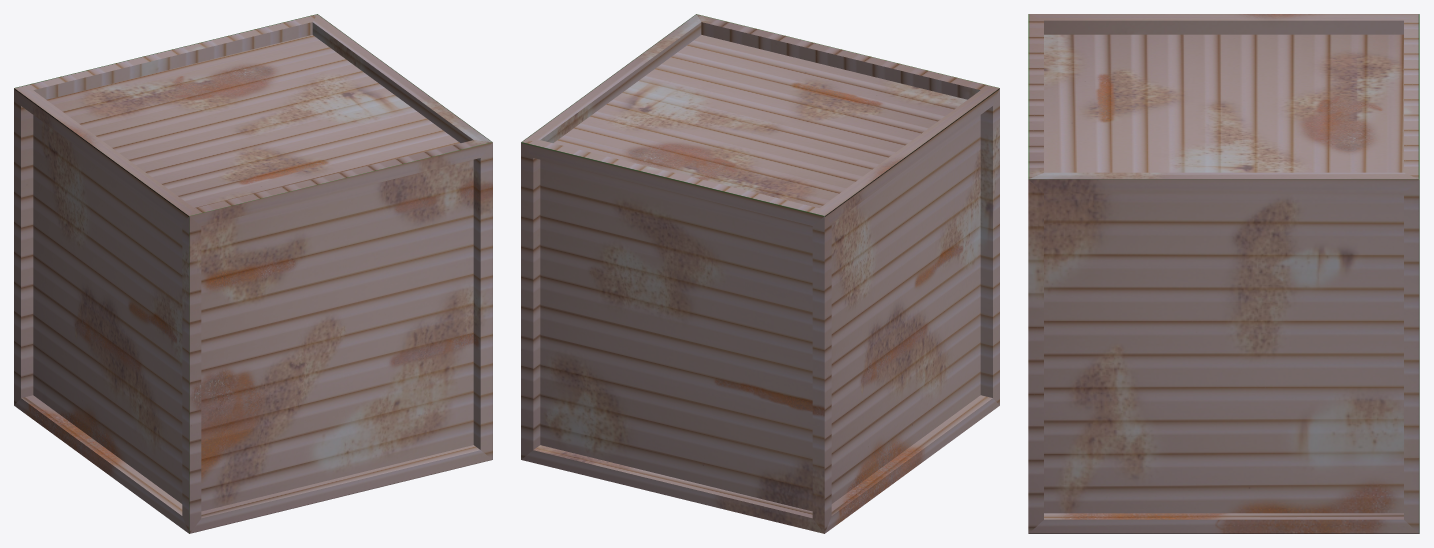
The model's file is Metal_Crate.FBX.
The picture shows the model from 3 angles, left to right: view 1: azimuth 30°, elevation 25°; view 2: azimuth 150°, elevation 25°; view 3: azimuth 270°, elevation 25°; orthographic projection. The views are drawn at different scales.
Parts seen in each view (by area): view 1: Box001; view 2: Box001; view 3: Box001.
Part boxes in pixels (x1,y1,x2,y2): Box001: (14, 14, 492, 533); Box001: (521, 14, 999, 533); Box001: (1028, 14, 1419, 533).
Size of the model in its own units: 50 by 50 by 50.
